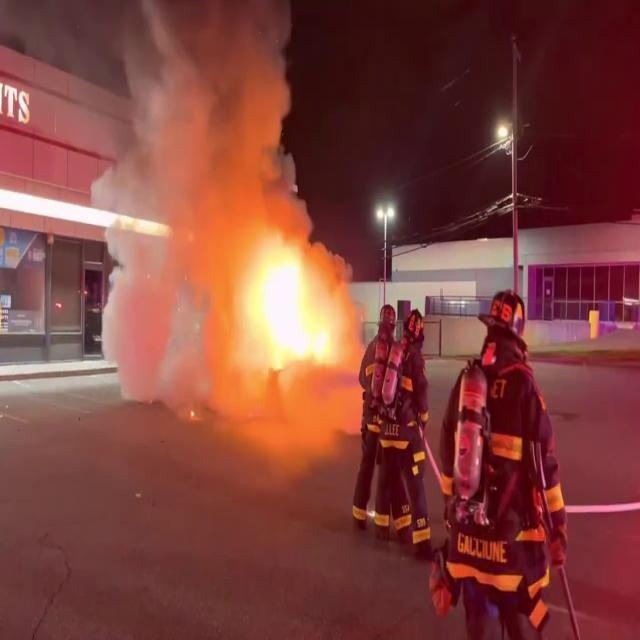Fire: (222, 230, 340, 386)
Smoke: (102, 0, 317, 243)
